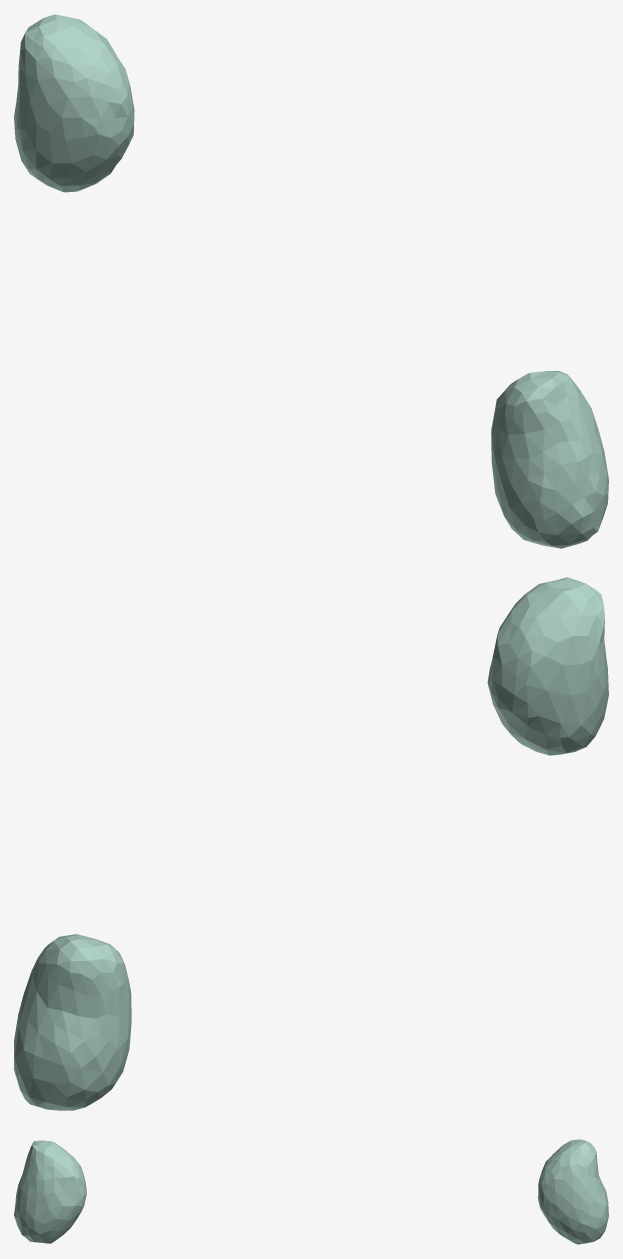
3 views of the same model, one above another, from view 1: azimuth 30°, elevation 25°; view 2: azimuth 150°, elevation 25°; view 3: azimuth 270°, elevation 25° (orthographic). The views are drawn at different scales.
Visible parts, largest first — view 1: 619.obj; view 2: 619.obj; view 3: 619.obj.
Part boxes in pixels (x1,y1,x2,y2): 619.obj: (14, 14, 608, 548); 619.obj: (14, 577, 608, 1110); 619.obj: (14, 1139, 608, 1244).
Size of the model in its own units: 515 by 837 by 4755.
